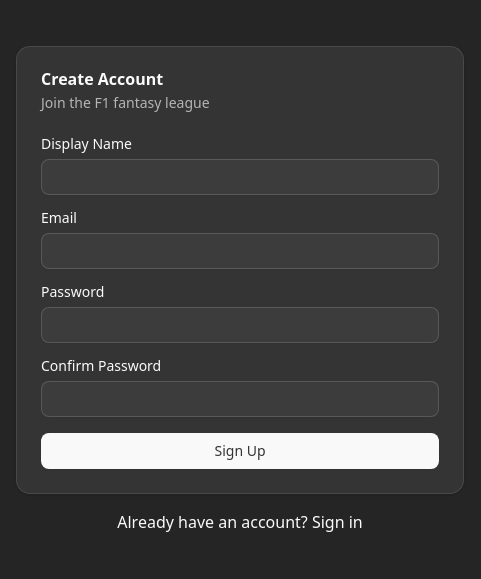
Test: SignUpForm › shows error if signUp throws
This screenshot has width=481, height=579.
Type "Test User" into the field labelled "Display Name" at (240, 177), box [41, 159, 439, 195]
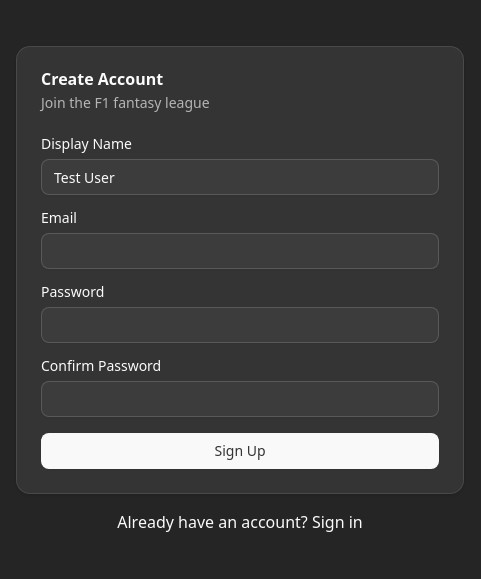
Type "test@example.com" into the field labelled "Email" at (240, 251), box [41, 233, 439, 269]
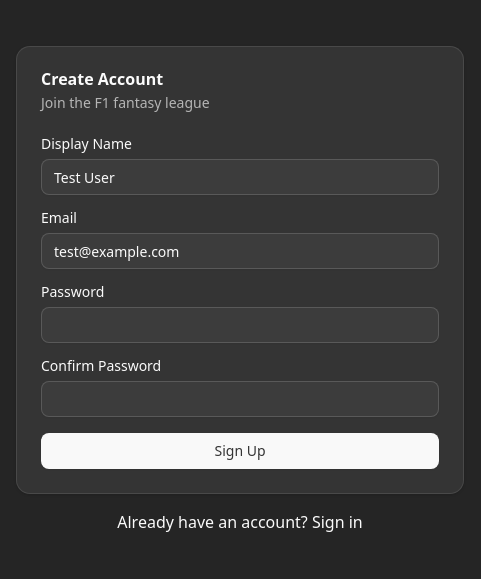
Type "password123" into the password field labelled "Password" at (240, 325), box [41, 307, 439, 343]
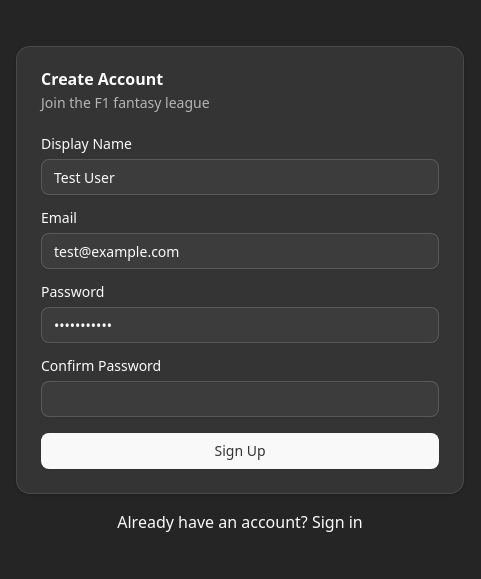
Type "password123" into the password field labelled "Confirm Password" at (240, 399), box [41, 381, 439, 417]
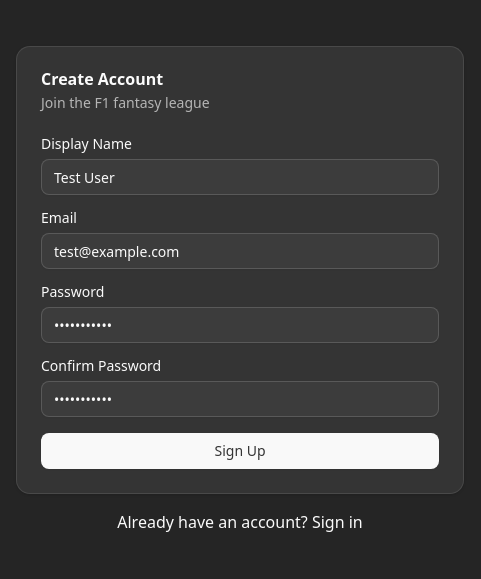
Click the button "Sign Up" at (240, 451), box [41, 433, 439, 469]
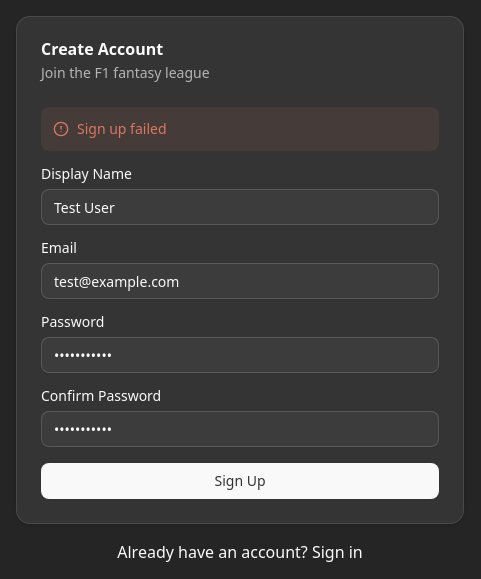
Expected: the message reads "Sign up failed", [77, 119, 166, 138]
